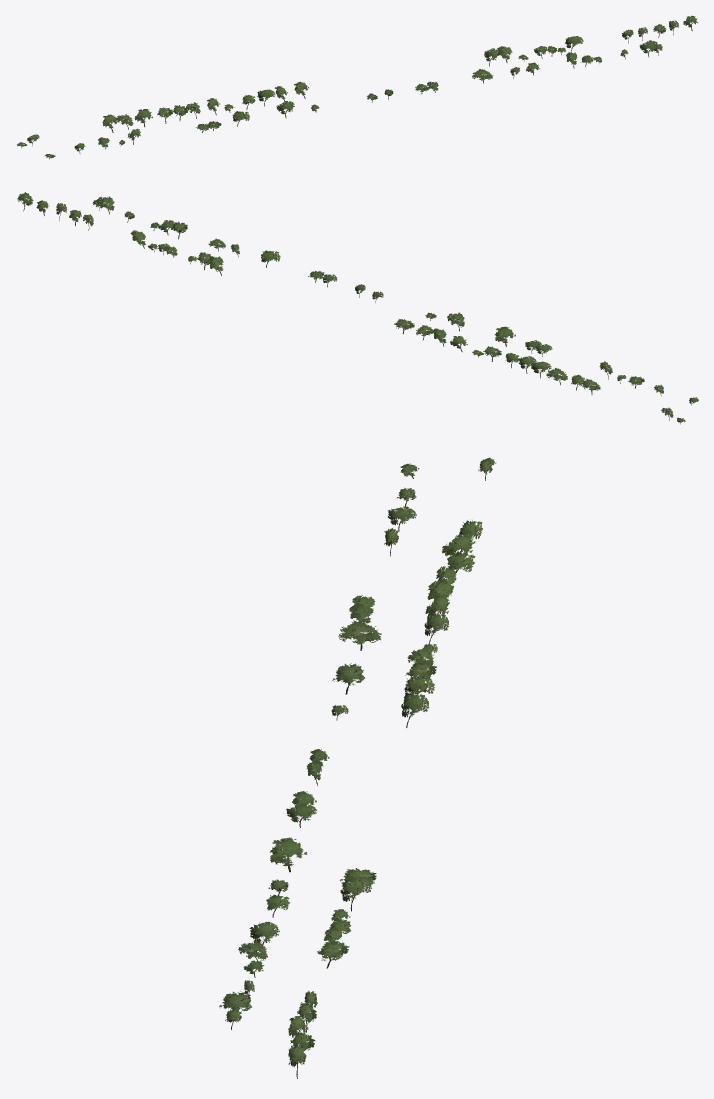
3 renders of one model, top to bottom at view 1: azimuth 30°, elevation 25°; view 2: azimuth 150°, elevation 25°; view 3: azimuth 270°, elevation 25°, orthographic. The views are drawn at different scales.
Visible parts, largest first — view 1: Marina Boulevard Sindora crowns, Marina Boulevard Sindora bark; view 2: Marina Boulevard Sindora crowns, Marina Boulevard Sindora bark; view 3: Marina Boulevard Sindora crowns.
Part boxes in pixels (<box>): Marina Boulevard Sindora crowns: <box>17,15,697,158</box>; Marina Boulevard Sindora bark: <box>21,22,693,159</box>; Marina Boulevard Sindora crowns: <box>17,192,698,422</box>; Marina Boulevard Sindora bark: <box>23,201,692,424</box>; Marina Boulevard Sindora crowns: <box>219,457,496,1067</box>.
Size of the model in its own units: 487 by 11.3 by 93.75.
2 materials, 2 textured.
